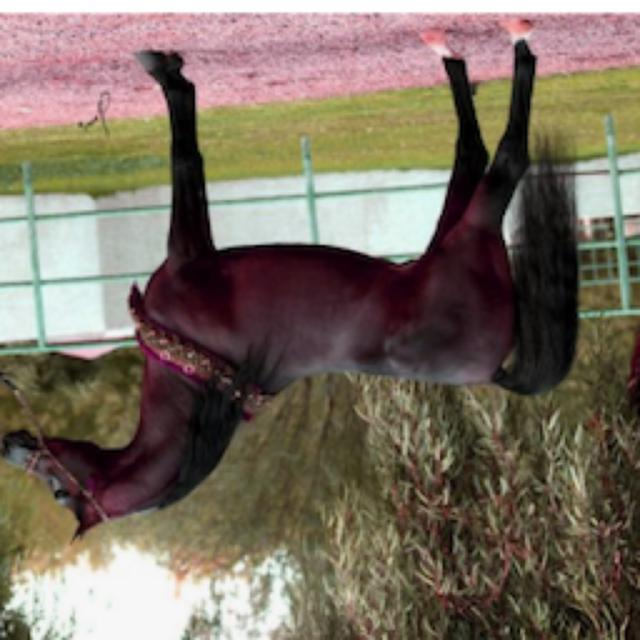Horse: (2, 20, 592, 548)
